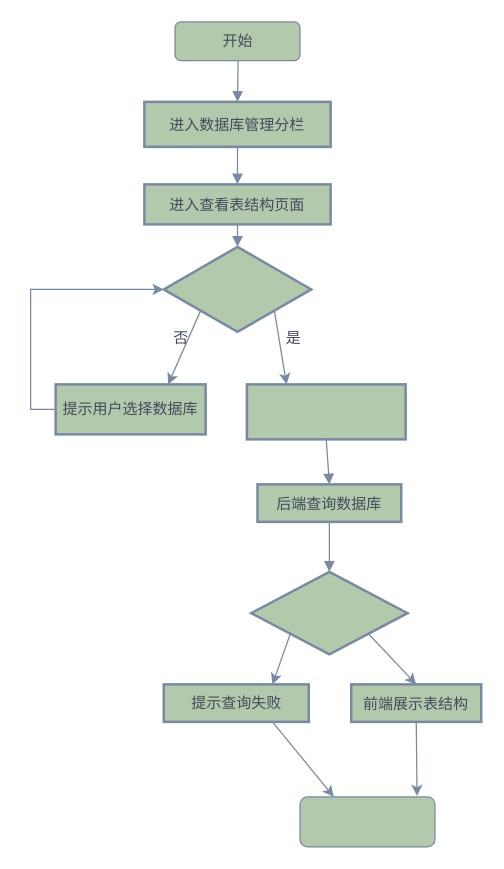
Image size: 504x869. Some labels were removed from this diagram. Here are the shapes that lost their labels. From the top down, the centre of each, then its label:
At [237,288]: "是否选择数据库?".
At [325,411]: "前端请求后端数据".
At [328,612]: "查询是否成功?".
At [367,821]: "结束".
